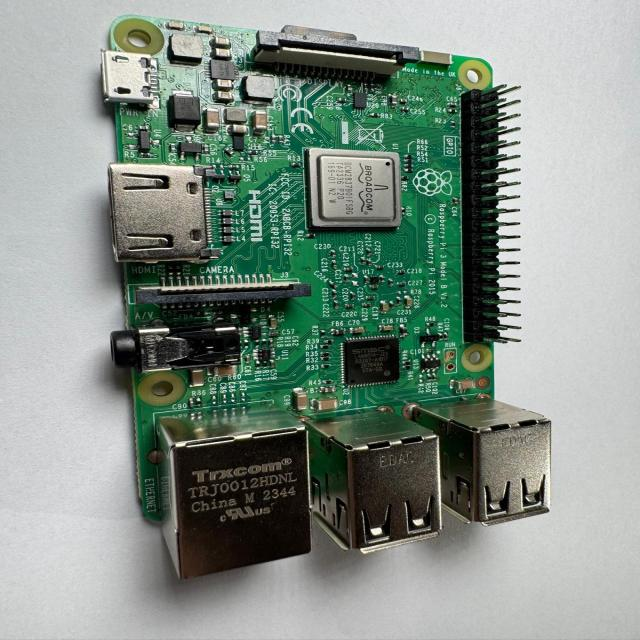CPU: (305, 147, 404, 235)
Ethernet: (158, 412, 313, 584)
GPIO: (462, 86, 524, 345)
HDMI: (106, 163, 218, 266)
RAM-3: (343, 336, 403, 388)
Raspberry: (99, 15, 553, 582)
